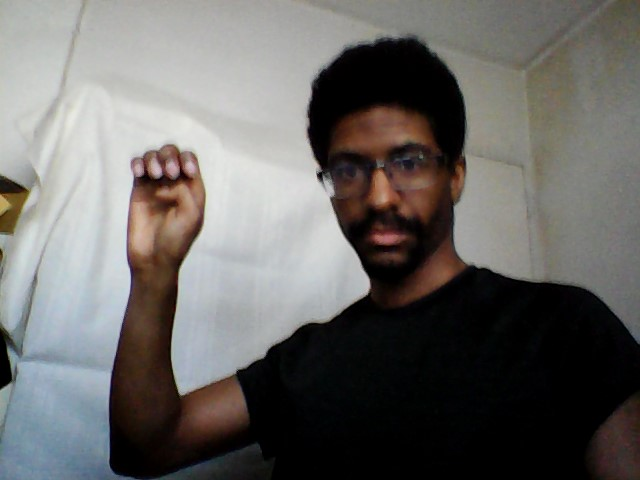e: (120, 141, 210, 273)
